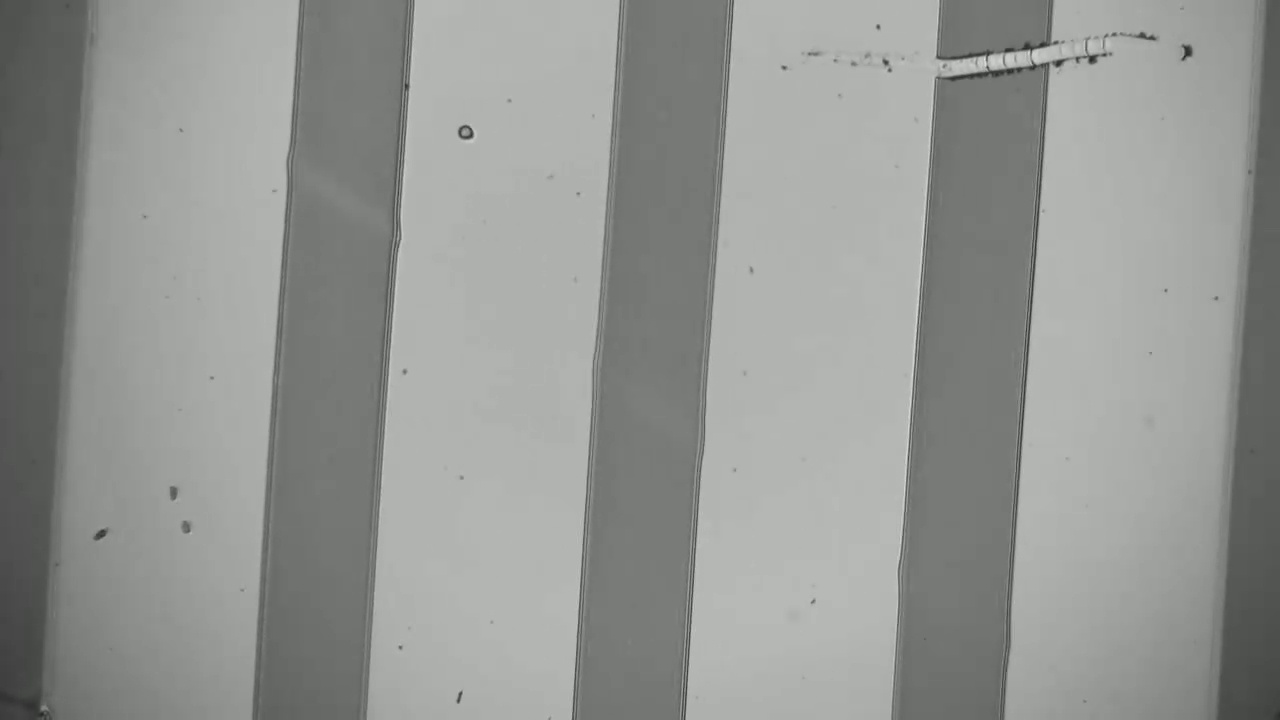Short_circuit: (908, 16, 1078, 107)
